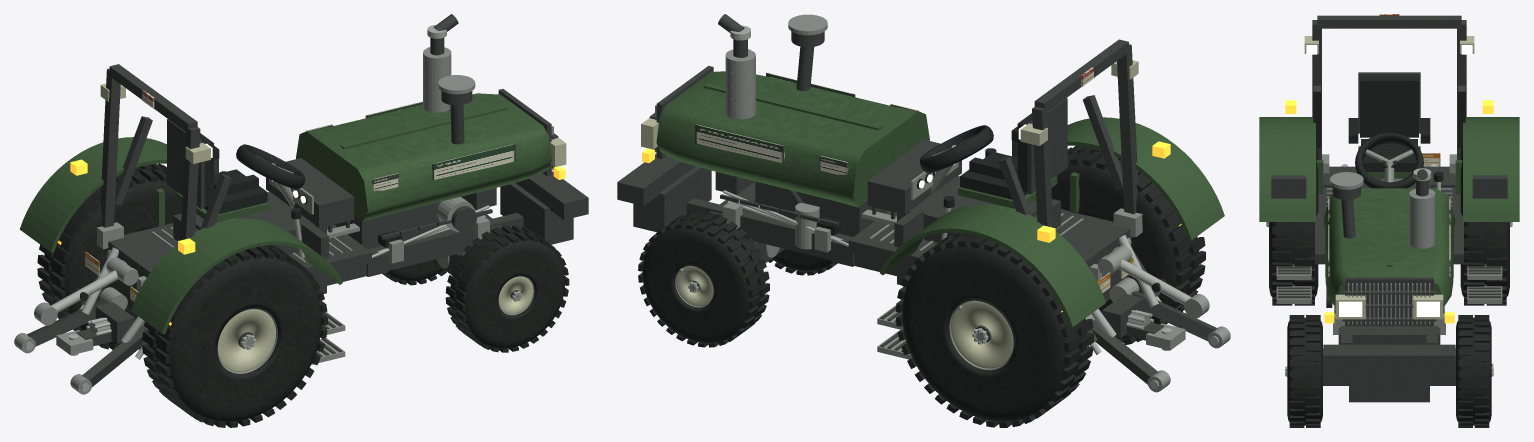
File: PZ_FIELDWARD_75D_Tractor_COMPLETE.glb
The picture shows the model from 3 angles, left to right: view 1: azimuth 30°, elevation 25°; view 2: azimuth 150°, elevation 25°; view 3: azimuth 270°, elevation 25°; orthographic projection. The views are drawn at different scales.
Visible parts, largest first — view 1: FIELDWARD_Contoured_Hood_Watertight, REAR_R__Tire_Sidewall_Tread_Watertight, FRONT_R__Tire_Sidewall_Tread_Watertight, Rear_R_ClosedCurved_Fender, Rear_L_ClosedCurved_Fender, REAR_L__Tire_Sidewall_Tread_Watertight, REAR_R__Staggered_Directional_TreadLugs, FRONT_R__Staggered_Directional_TreadLugs, REAR_L__Staggered_Directional_TreadLugs, Chassis_R_MainLadderRail, REAR_R__Pressed_White_Rim, Dashboard_Base (+34 smaller); view 2: FIELDWARD_Contoured_Hood_Watertight, REAR_L__Tire_Sidewall_Tread_Watertight, FRONT_L__Tire_Sidewall_Tread_Watertight, Rear_L_ClosedCurved_Fender, REAR_R__Tire_Sidewall_Tread_Watertight, Rear_R_ClosedCurved_Fender, REAR_L__Staggered_Directional_TreadLugs, FRONT_L__Staggered_Directional_TreadLugs, REAR_R__Staggered_Directional_TreadLugs, REAR_L__Pressed_White_Rim, Chassis_L_MainLadderRail, Dashboard_Base (+33 smaller); view 3: FIELDWARD_Contoured_Hood_Watertight, Rear_L_ClosedCurved_Fender, Rear_R_ClosedCurved_Fender, Front_HeavySteel_Bumper, Seat_Backrest_CurvedProfile, FRONT_L__Staggered_Directional_TreadLugs, FRONT_R__Staggered_Directional_TreadLugs, Front_Ballast_Counterweight_Block, Front_Grille_Face, REAR_R__Staggered_Directional_TreadLugs, REAR_L__Staggered_Directional_TreadLugs, ROPS_TopCrossbar (+35 smaller).
Part boxes in pixels (<box>): FIELDWARD_Contoured_Hood_Watertight: <box>296,93,551,221</box>; REAR_R__Tire_Sidewall_Tread_Watertight: <box>148,250,321,421</box>; FRONT_R__Tire_Sidewall_Tread_Watertight: <box>449,230,565,348</box>; Rear_R_ClosedCurved_Fender: <box>131,218,342,333</box>; Rear_L_ClosedCurved_Fender: <box>19,137,166,252</box>; REAR_L__Tire_Sidewall_Tread_Watertight: <box>43,168,182,344</box>; REAR_R__Staggered_Directional_TreadLugs: <box>142,245,327,427</box>; FRONT_R__Staggered_Directional_TreadLugs: <box>445,225,569,352</box>; REAR_L__Staggered_Directional_TreadLugs: <box>37,163,166,349</box>; Chassis_R_MainLadderRail: <box>313,212,523,287</box>; REAR_R__Pressed_White_Rim: <box>217,309,275,372</box>; Dashboard_Base: <box>266,158,354,228</box>; FIELDWARD_Contoured_Hood_Watertight: <box>656,71,929,207</box>; REAR_L__Tire_Sidewall_Tread_Watertight: <box>902,235,1087,421</box>; FRONT_L__Tire_Sidewall_Tread_Watertight: <box>642,216,765,343</box>; Rear_L_ClosedCurved_Fender: <box>880,204,1105,327</box>; REAR_R__Tire_Sidewall_Tread_Watertight: <box>1051,151,1199,339</box>; Rear_R_ClosedCurved_Fender: <box>1067,117,1224,240</box>; REAR_L__Staggered_Directional_TreadLugs: <box>895,232,1093,427</box>; FRONT_L__Staggered_Directional_TreadLugs: <box>638,212,769,347</box>; REAR_R__Staggered_Directional_TreadLugs: <box>1067,146,1205,344</box>; REAR_L__Pressed_White_Rim: <box>951,301,1013,368</box>; Chassis_L_MainLadderRail: <box>686,198,909,277</box>; Dashboard_Base: <box>867,139,961,214</box>; FIELDWARD_Contoured_Hood_Watertight: <box>1323,188,1455,307</box>; Rear_L_ClosedCurved_Fender: <box>1463,117,1519,221</box>; Rear_R_ClosedCurved_Fender: <box>1259,117,1315,221</box>; Front_HeavySteel_Bumper: <box>1323,344,1455,370</box>; Seat_Backrest_CurvedProfile: <box>1360,77,1418,137</box>; FRONT_L__Staggered_Directional_TreadLugs: <box>1458,315,1489,427</box>; FRONT_R__Staggered_Directional_TreadLugs: <box>1289,315,1320,427</box>; Front_Ballast_Counterweight_Block: <box>1349,370,1429,402</box>; Front_Grille_Face: <box>1345,277,1433,325</box>; REAR_R__Staggered_Directional_TreadLugs: <box>1272,222,1314,305</box>; REAR_L__Staggered_Directional_TreadLugs: <box>1464,222,1506,305</box>; ROPS_TopCrossbar: <box>1317,15,1461,28</box>.
Size of the model in its own units: 4.97 by 2.71 by 2.38.
10 materials, 10 textured.
